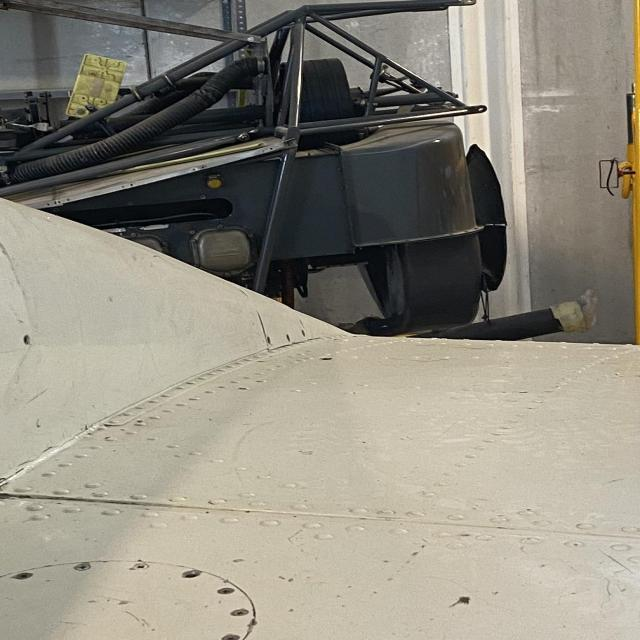Fastener Damage: (23, 331, 34, 349)
Rupture: (0, 468, 22, 514)
